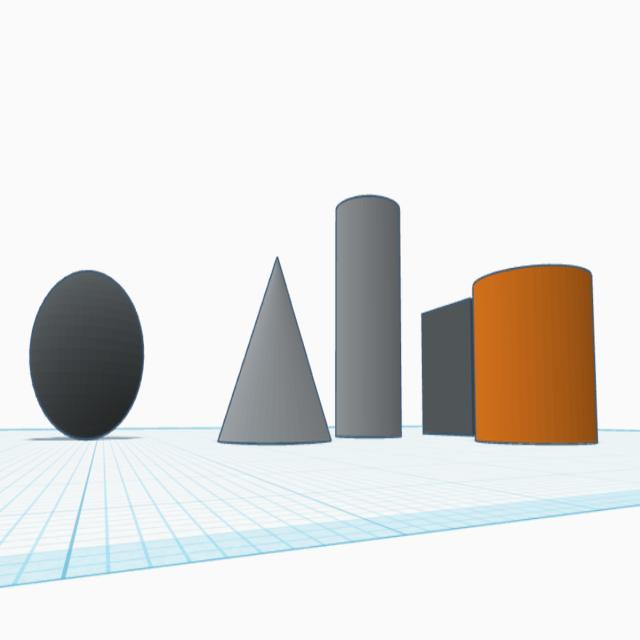cone: (216, 251, 333, 450)
sphere: (27, 266, 148, 447)
